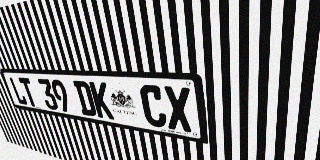3: (37, 79, 59, 111)
9: (49, 79, 72, 113)
C: (139, 84, 168, 129)
D: (73, 81, 97, 117)
K: (89, 82, 115, 120)
L: (8, 77, 28, 106)
T: (18, 77, 39, 107)
X: (163, 86, 193, 133)
